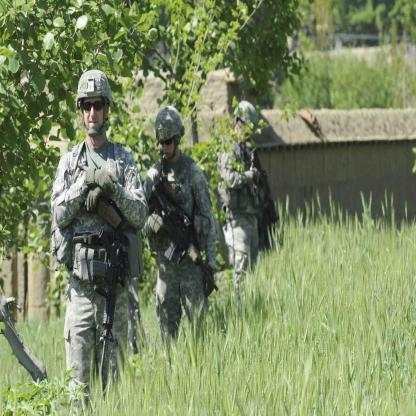Helmet: (72, 73, 109, 139), (154, 102, 186, 160), (232, 101, 263, 145)
